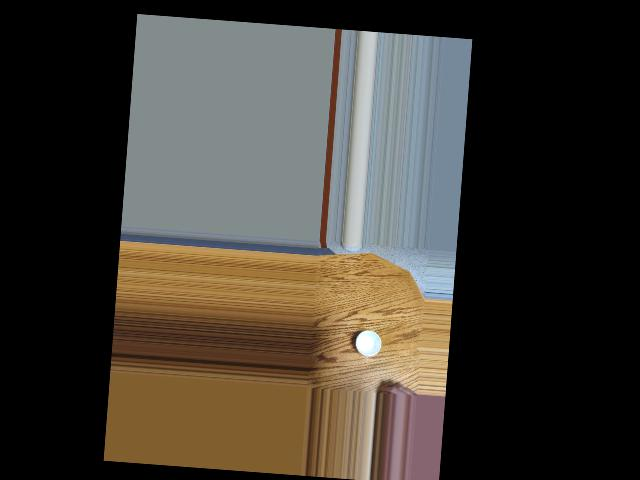cotage: (355, 327, 386, 362)
